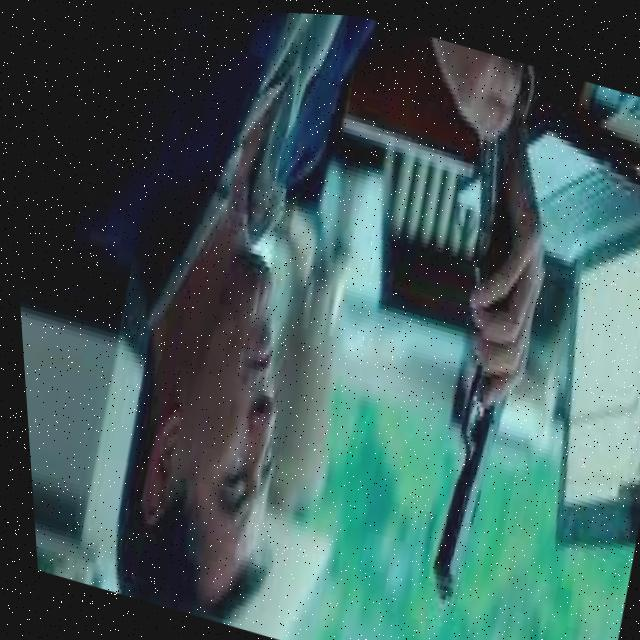pistol: (404, 352, 523, 612)
